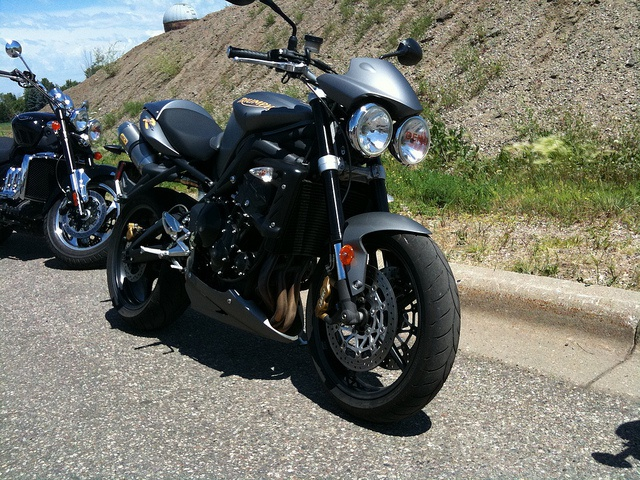non-vehicle: (102, 0, 460, 425), (0, 38, 126, 269)
